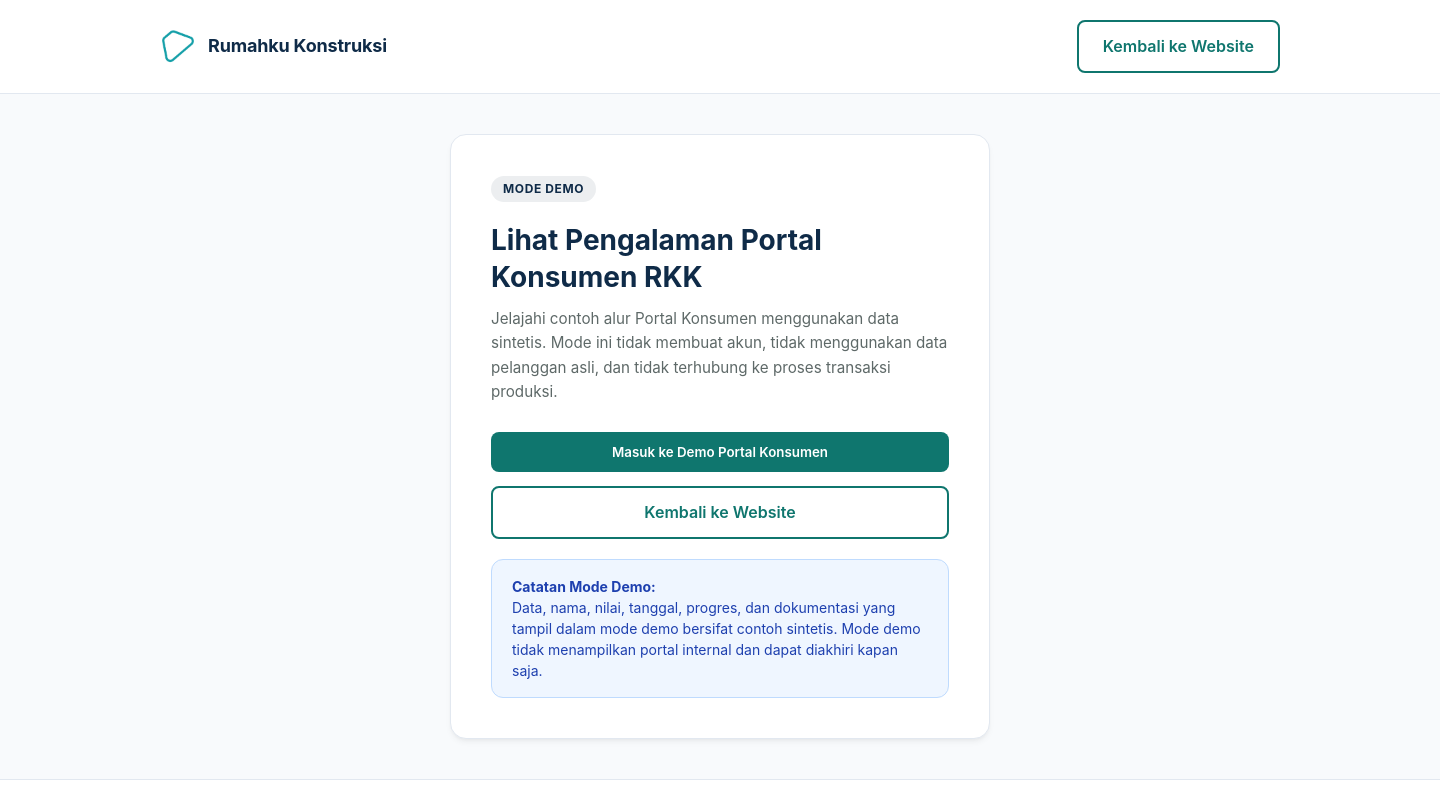
Scenario: PLAN-009 Access Pages, Sign-in, Routing & Boundary Tests › /demo Access Gateway Page › creates Demo Context and navigates to /portal when clicking main button
Click the button "Masuk ke Demo Portal Konsumen": [720, 452] box [491,432,949,472]
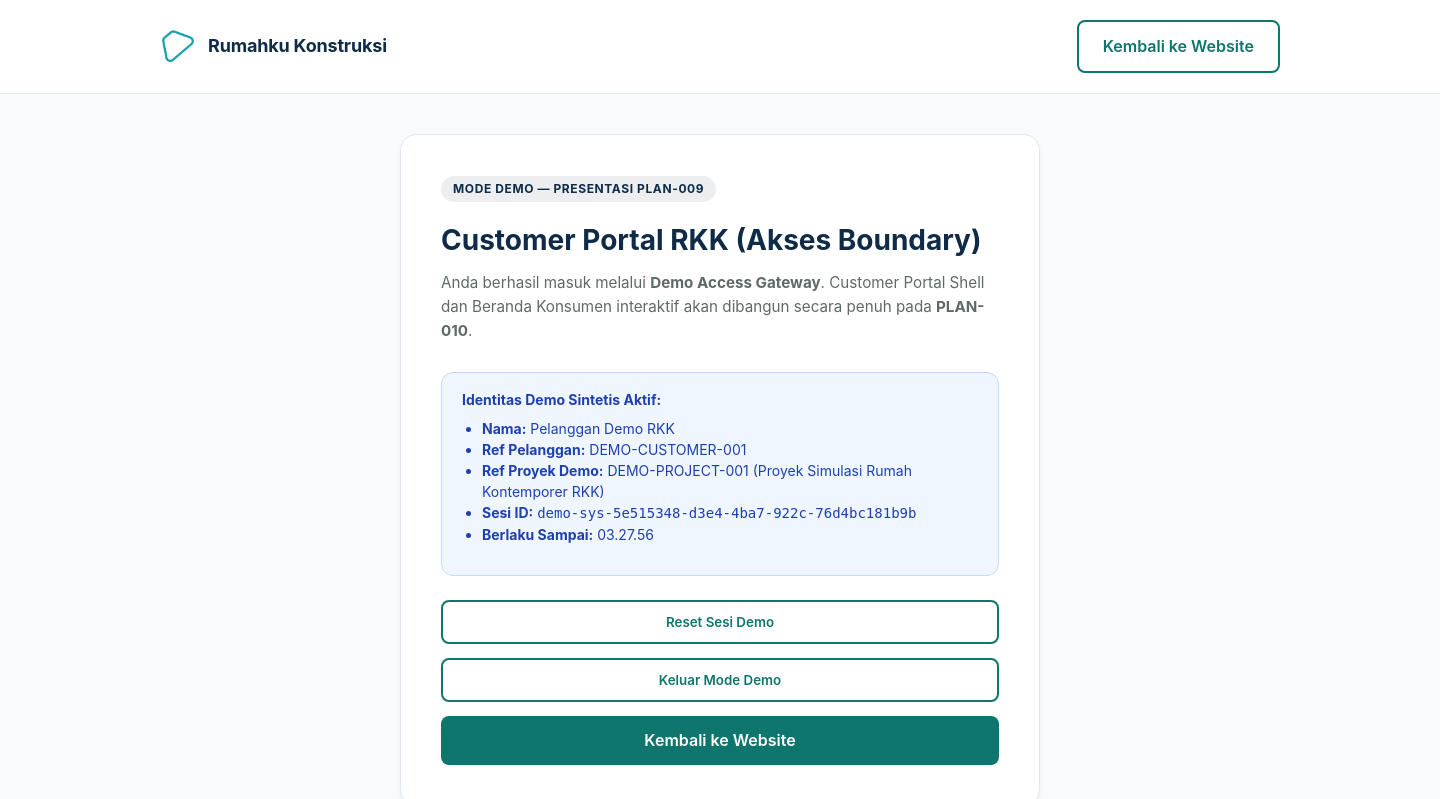
Expected: the heading "Customer Portal RKK (Akses Boundary)" is shown, [441,222,999,259]
